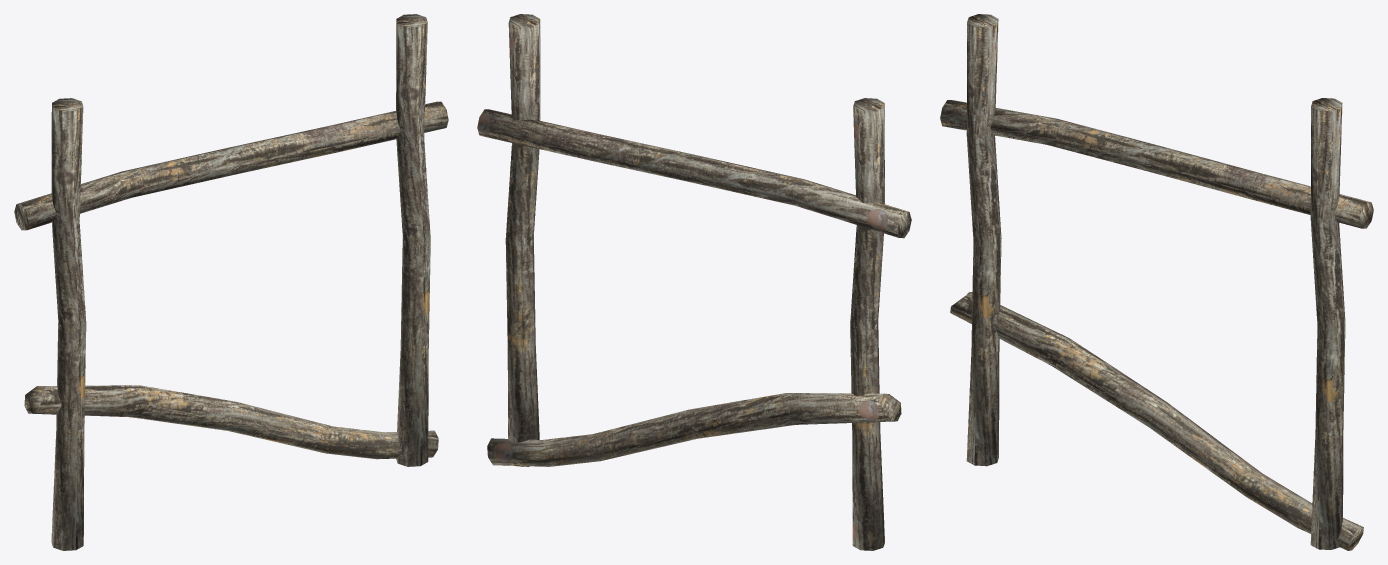
The model's file is fence1.gltf.
3 views of the same model, side by side, from view 1: azimuth 30°, elevation 25°; view 2: azimuth 150°, elevation 25°; view 3: azimuth 330°, elevation 25° (orthographic).
Visible parts, largest first — view 1: Wood_03.006, Wood_03.003, Wood_01.002, Wood_02.002; view 2: Wood_01.002, Wood_02.002, Wood_03.003, Wood_03.006; view 3: Wood_03.003, Wood_03.006, Wood_02.002, Wood_01.002.
Boxes of the visible parts, x1,y1,x2,y2 form: Wood_03.006: [51, 98, 86, 550]; Wood_03.003: [396, 14, 430, 466]; Wood_01.002: [14, 101, 448, 230]; Wood_02.002: [24, 385, 438, 459]; Wood_01.002: [477, 109, 911, 238]; Wood_02.002: [487, 393, 901, 466]; Wood_03.003: [505, 14, 540, 466]; Wood_03.006: [850, 98, 884, 550]; Wood_03.003: [1310, 98, 1345, 549]; Wood_03.006: [966, 14, 1001, 466]; Wood_02.002: [950, 291, 1363, 550]; Wood_01.002: [940, 100, 1373, 228].
Size of the model in its own units: 200 by 203 by 17.76.
Materials: 1 (1 with a texture image).
